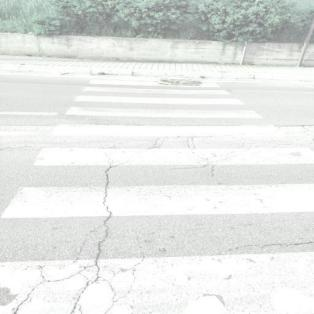Paso de Cebra: (0, 146, 314, 227), (49, 106, 294, 138), (81, 78, 235, 96)
